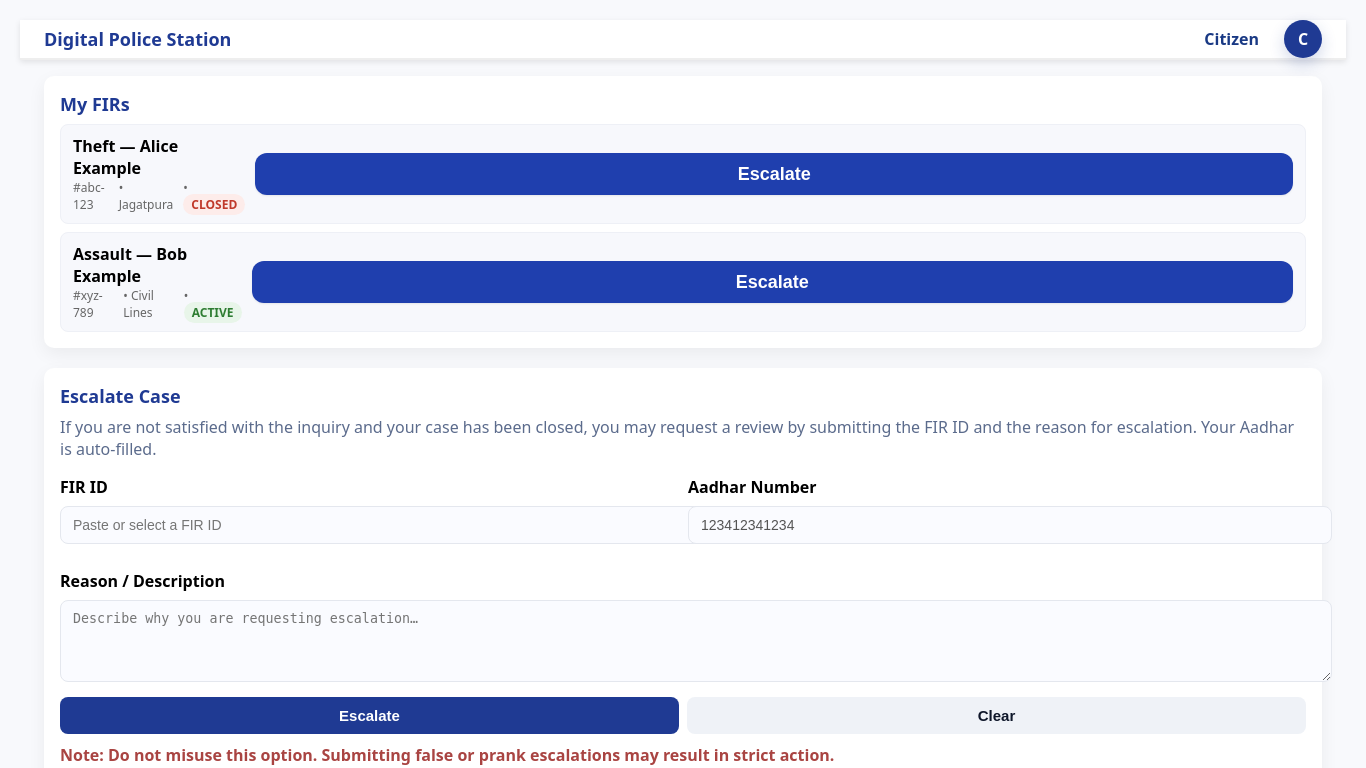
CitizenDashboard › clicking a row then "Use this FIR for Escalation" prefills the form
The width and height of the screenshot is (1366, 768).
Click the list item "Theft — Alice Example #abc-123 • Jagatpura • CLOSED Escalate" at (683, 174), box [60,124,1306,224]
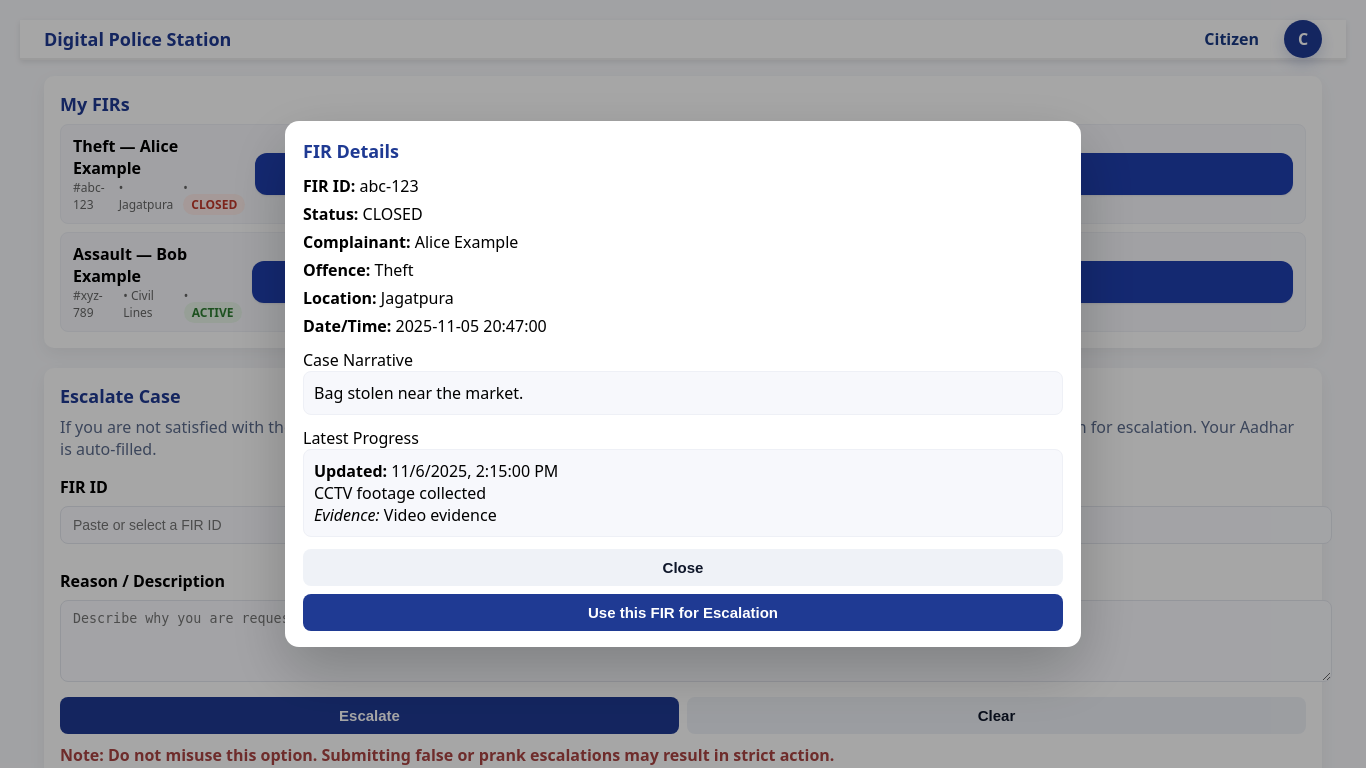
Click the button "Use this FIR for Escalation" at (683, 612), box [303,594,1063,631]
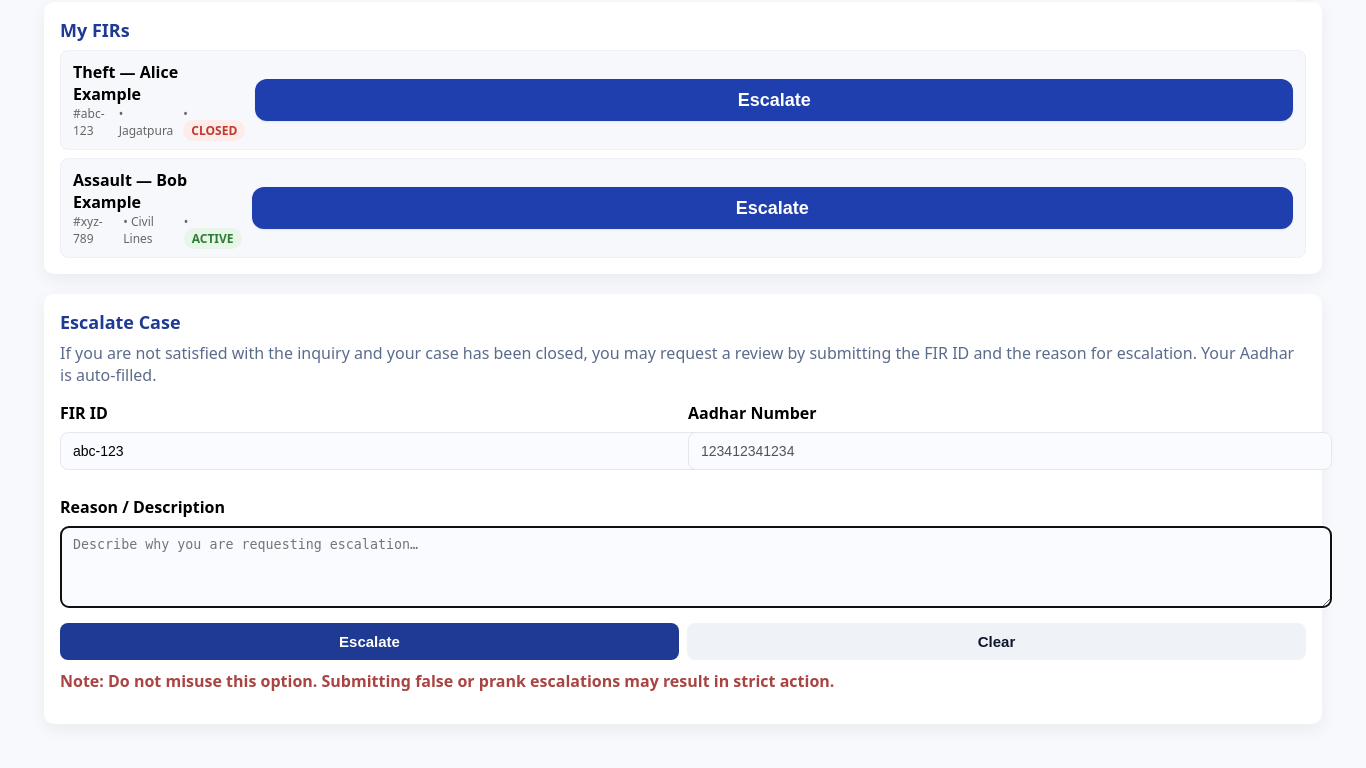
Result: the 1st field with placeholder "Paste or select a FIR ID" holds "abc-123" at [60,432,704,470]
